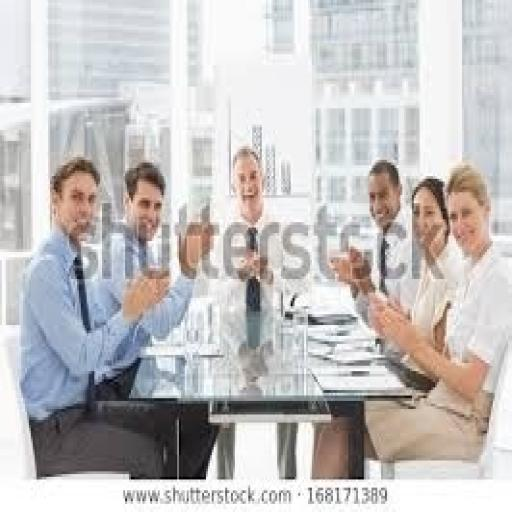clapping: (330, 36, 486, 485), (16, 154, 218, 480), (310, 160, 510, 479), (97, 104, 218, 439), (334, 62, 442, 410), (204, 144, 306, 480)
